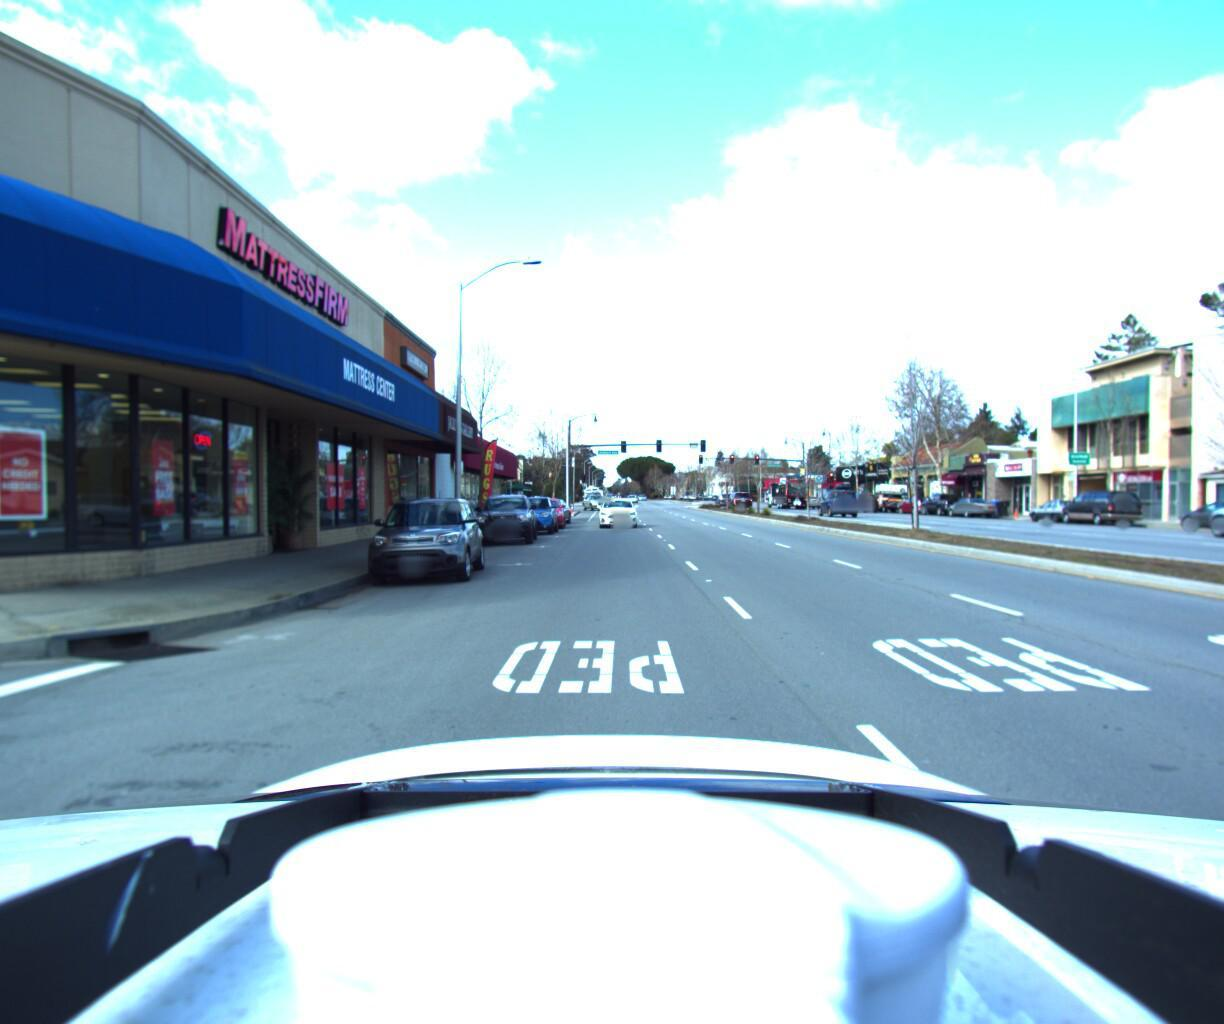car: (354, 493, 490, 587), (1054, 489, 1145, 525), (472, 494, 534, 544), (1184, 479, 1224, 539), (506, 496, 555, 533), (1020, 498, 1090, 522), (812, 482, 857, 516), (597, 494, 637, 527), (524, 498, 562, 528), (916, 492, 967, 515), (941, 497, 999, 517), (892, 489, 935, 514), (866, 490, 911, 513), (842, 492, 879, 513), (723, 491, 752, 508)
truck: (764, 473, 816, 509)
